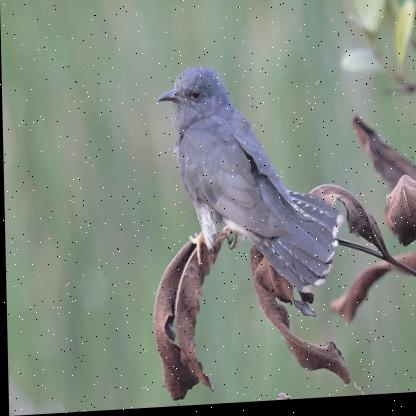Burung: (157, 61, 345, 304)
